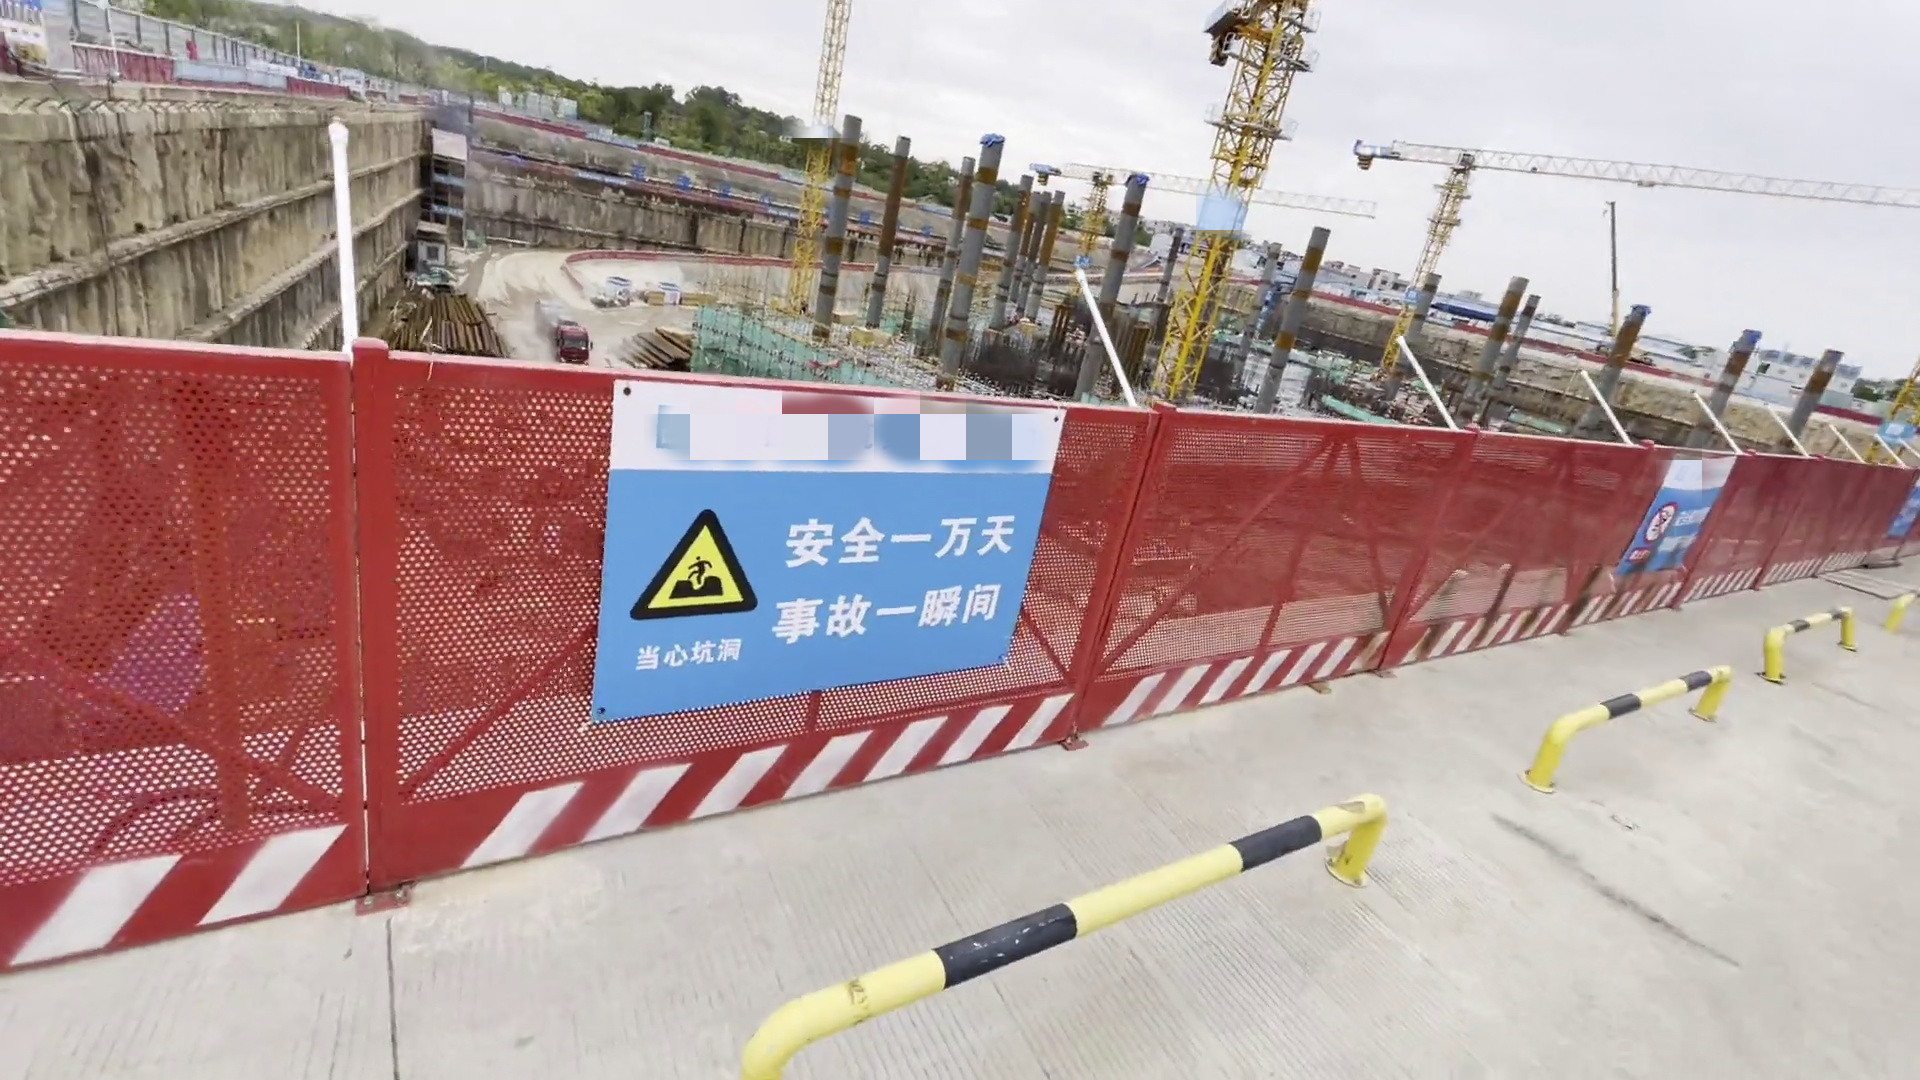fence: (1, 390, 1465, 869), (73, 51, 353, 102)
slogan: (626, 436, 1004, 673), (1633, 491, 1717, 568), (629, 166, 774, 208), (169, 59, 299, 99), (578, 171, 626, 186)
